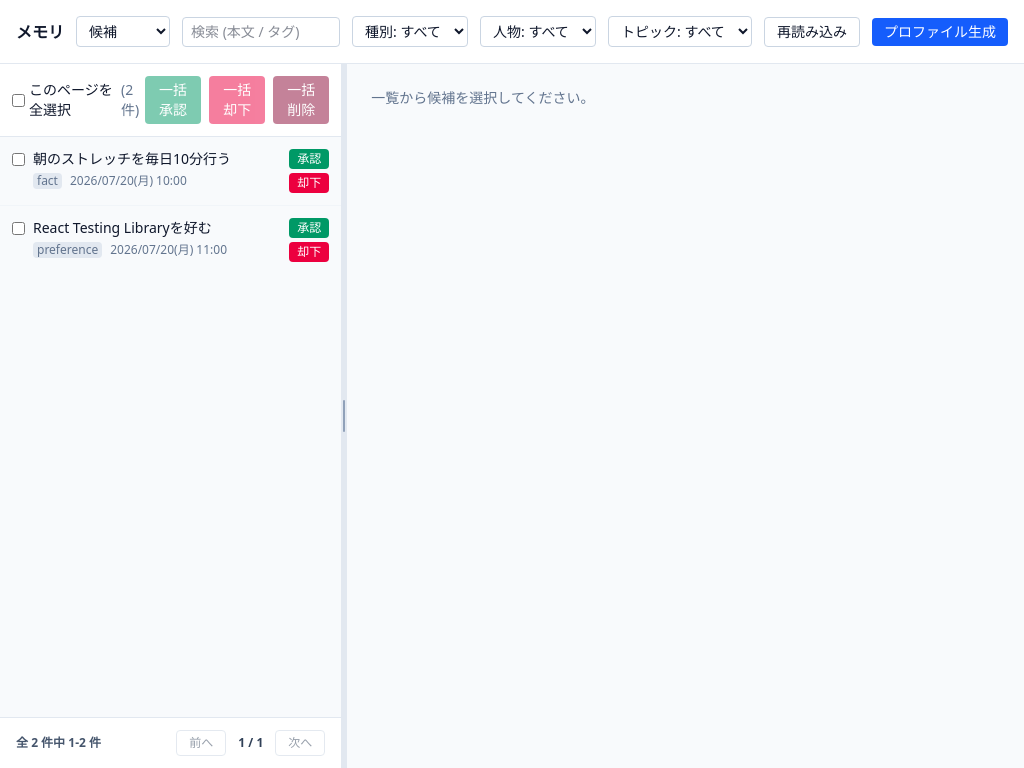
MemoryPage › resets selection when status, topic, kind, or search query changes
Check: the text "朝のストレッチを毎日10分行う" is shown, box [33,149,231,168]
# Select a row first
Click the button "朝のストレッチを毎日10分行う fact 2026/07/20(月) 10:00".
click(157, 169)  # box [33,149,281,189]
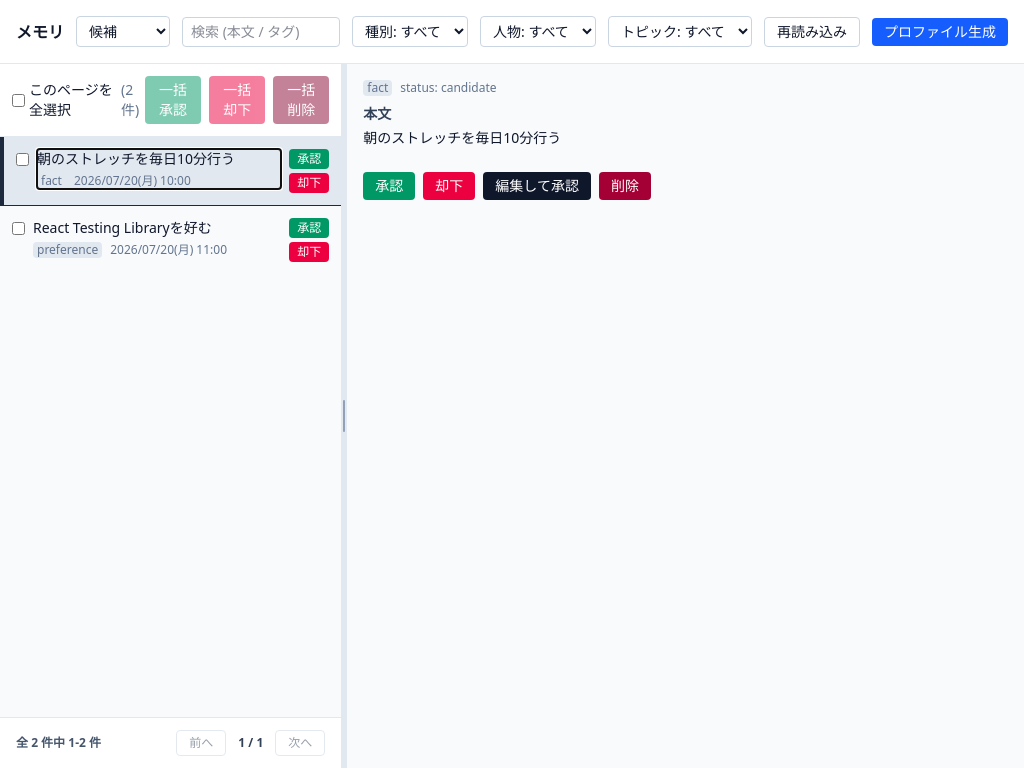
Check: the heading "本文" is shown, box [363,104,391,123]
Select "承認済み" in the dropdown named "ステータスフィルター" at (123, 32), box [76,16,170,47]
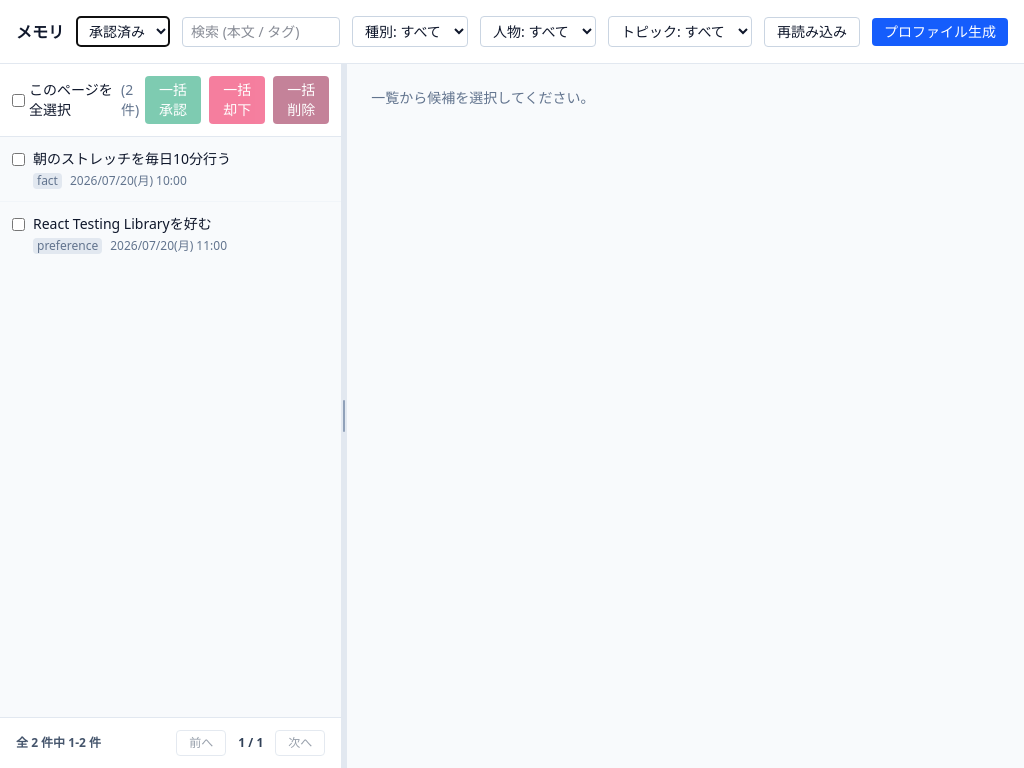
Check: the text "一覧から候補を選択してください。" is shown, box [371,88,594,107]
